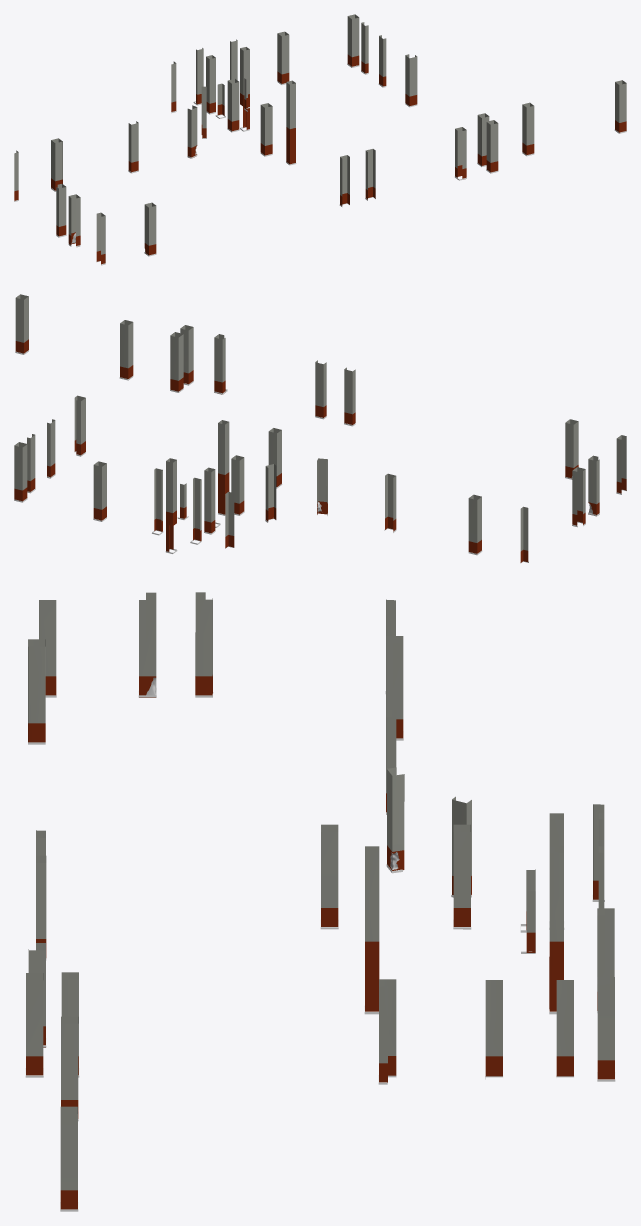
Rendered from SM_H_Building_Tide_Loungehall_01C_ATLAS.fbx.
The picture shows the model from 3 angles, top to bottom: view 1: azimuth 30°, elevation 25°; view 2: azimuth 150°, elevation 25°; view 3: azimuth 270°, elevation 25°; orthographic projection. The views are drawn at different scales.
Parts seen in each view (by area): view 1: SM_H_Building_Tide_Loungehall_01C_ATLAS; view 2: SM_H_Building_Tide_Loungehall_01C_ATLAS; view 3: SM_H_Building_Tide_Loungehall_01C_ATLAS.
Part boxes in pixels (left/top/right/bottom): SM_H_Building_Tide_Loungehall_01C_ATLAS: left=14, top=14, right=626, bottom=265; SM_H_Building_Tide_Loungehall_01C_ATLAS: left=14, top=294, right=626, bottom=563; SM_H_Building_Tide_Loungehall_01C_ATLAS: left=25, top=592, right=615, bottom=1211.
Size of the model in its own units: 9805 by 4685 by 1417.
